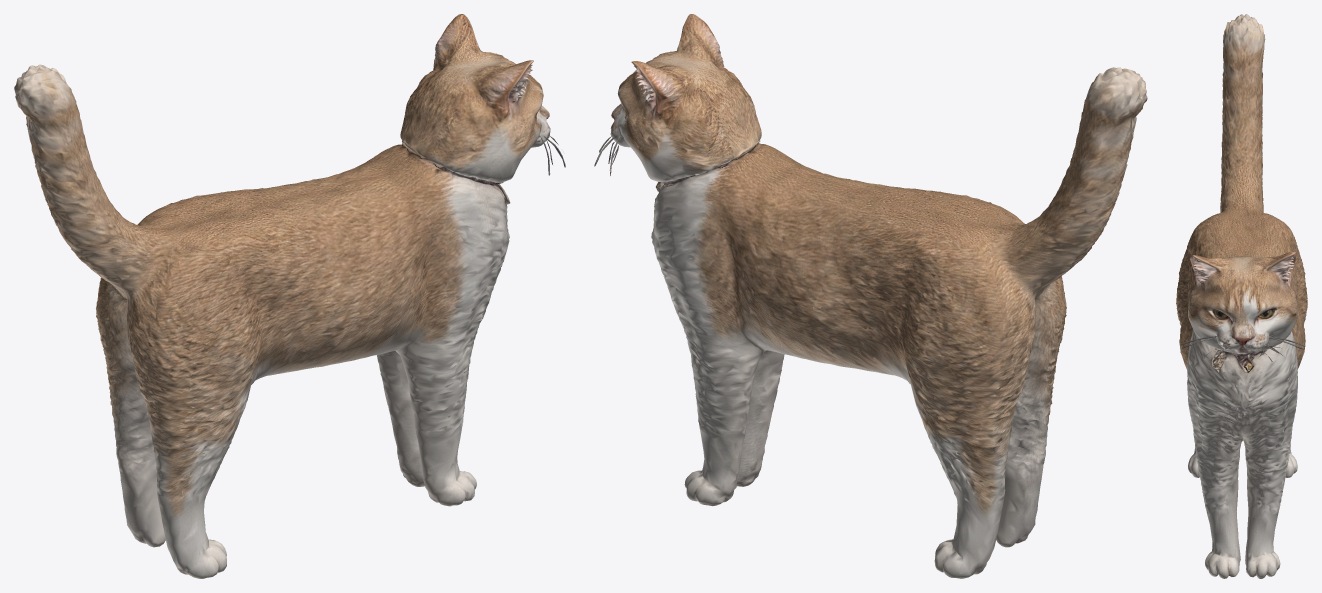
File: NOZAWAMUGI.glb
3 renders of one model, left to right at view 1: azimuth 30°, elevation 25°; view 2: azimuth 150°, elevation 25°; view 3: azimuth 270°, elevation 25°, orthographic. The views are drawn at different scales.
Parts seen in each view (by area): view 1: tripo_node_82af3e2f-f324-4d57-b78f-a6be52e3049a; view 2: tripo_node_82af3e2f-f324-4d57-b78f-a6be52e3049a; view 3: tripo_node_82af3e2f-f324-4d57-b78f-a6be52e3049a.
Boxes of the visible parts, left/top/right/bottom form: tripo_node_82af3e2f-f324-4d57-b78f-a6be52e3049a: left=14, top=14, right=565, bottom=578; tripo_node_82af3e2f-f324-4d57-b78f-a6be52e3049a: left=594, top=14, right=1147, bottom=578; tripo_node_82af3e2f-f324-4d57-b78f-a6be52e3049a: left=1176, top=14, right=1307, bottom=578.
Bounding box in the file's own units: 1.06 × 0.9995 × 0.294.
Materials: 1 (1 with a texture image).
